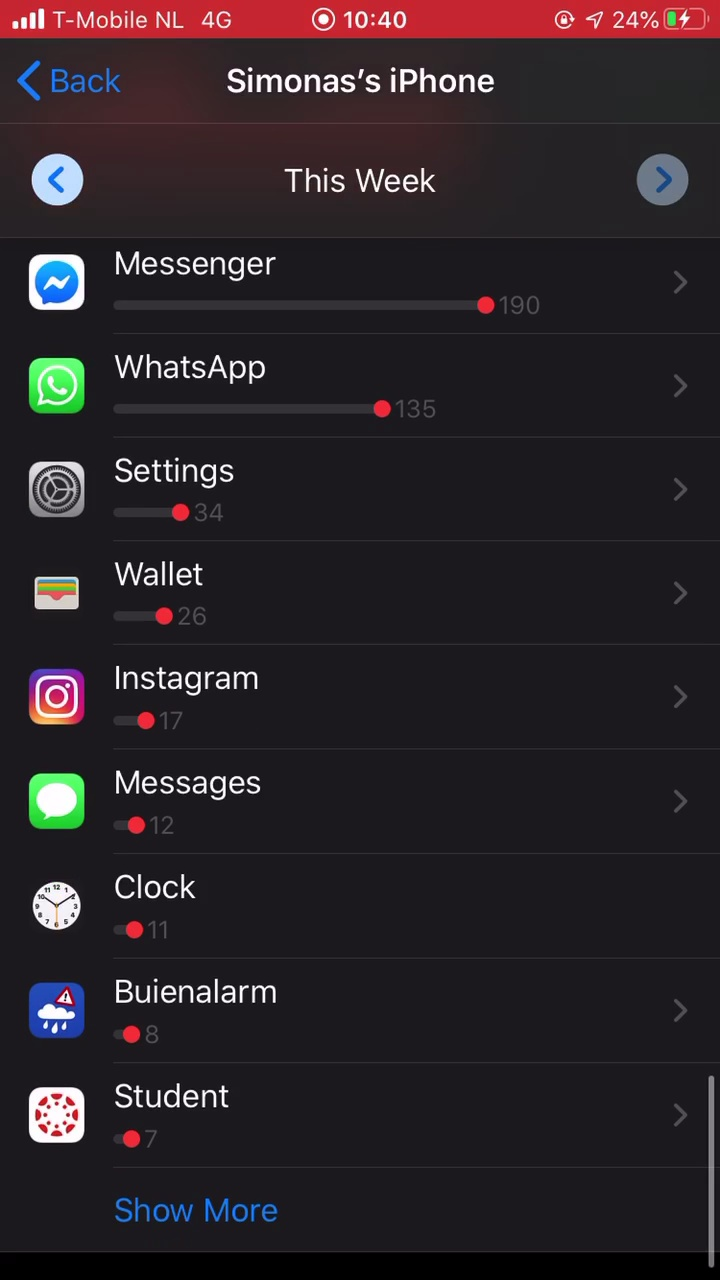not_app: (17, 224, 546, 330), (18, 349, 478, 435), (20, 1074, 298, 1161), (20, 869, 284, 950), (17, 977, 306, 1050), (29, 660, 287, 738), (25, 452, 289, 528), (29, 769, 286, 841), (32, 553, 240, 625)
week: (252, 152, 448, 205)
